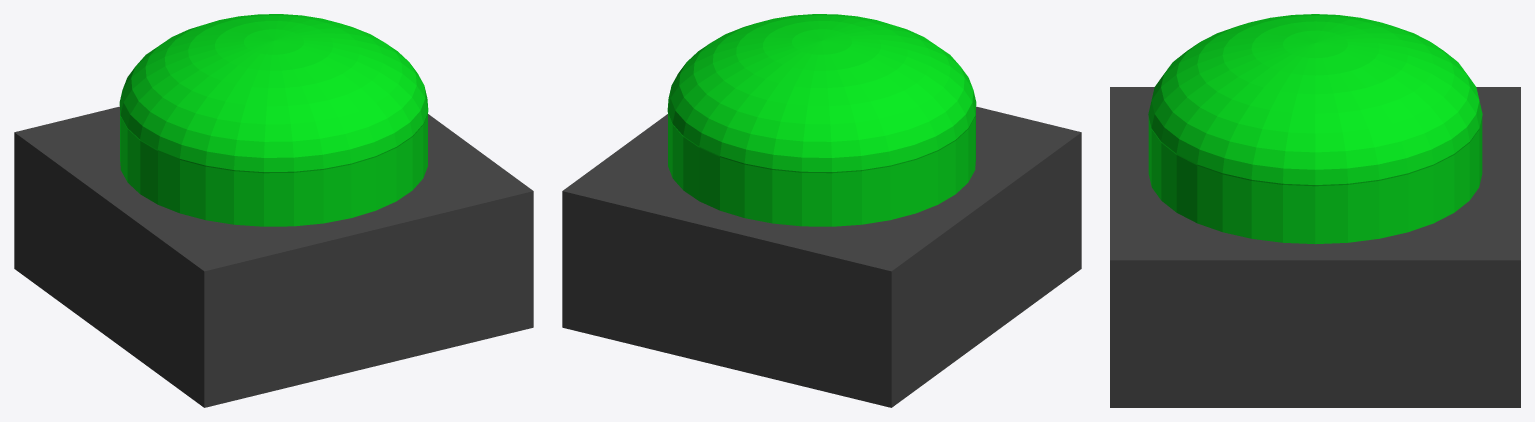
The model's file is lamp_green.glb.
The picture shows the model from 3 angles, left to right: view 1: azimuth 30°, elevation 25°; view 2: azimuth 150°, elevation 25°; view 3: azimuth 270°, elevation 25°; orthographic projection. The views are drawn at different scales.
Parts seen in each view (by area): view 1: Cube, Sphere, Cylinder; view 2: Cube, Sphere, Cylinder; view 3: Cube, Sphere, Cylinder.
Boxes of the visible parts, x1,y1,x2,y2 form: Cube: (14,106,533,407); Sphere: (119,14,428,173); Cylinder: (120,110,427,226); Cube: (562,106,1081,407); Sphere: (667,14,976,173); Cylinder: (668,110,975,226); Cube: (1110,87,1520,407); Sphere: (1148,14,1482,186); Cylinder: (1148,117,1482,244).
Bounding box in the file's own units: 2 × 1.49 × 2.
